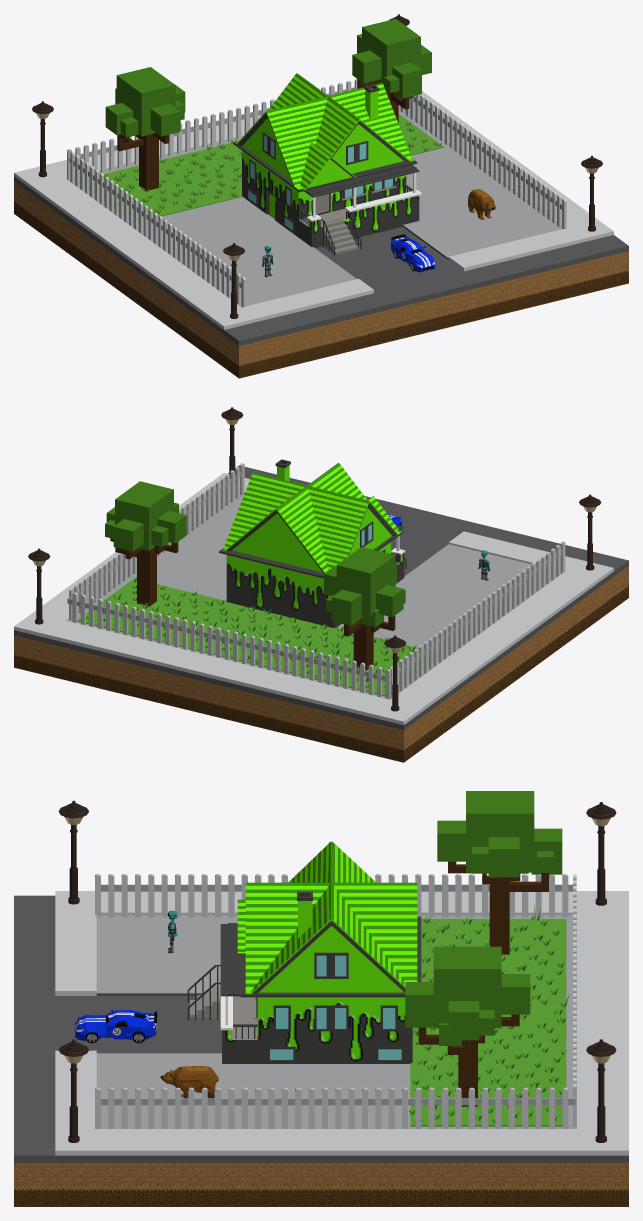
The picture shows the model from 3 angles, top to bottom: view 1: azimuth 30°, elevation 25°; view 2: azimuth 150°, elevation 25°; view 3: azimuth 270°, elevation 25°; orthographic projection. The views are drawn at different scales.
Parts seen in each view (by area): view 1: Cube.004, Cube.754, VEHICLES_RACING_CAR, ANIMAL_OSO; view 2: Cube.004, Cube.754; view 3: Cube.004, Cube.754, VEHICLES_RACING_CAR, ANIMAL_OSO.
Boxes of the visible parts, x1,y1,x2,y2 form: Cube.004: (14, 14, 628, 378); Cube.754: (233, 73, 421, 255); VEHICLES_RACING_CAR: (390, 234, 435, 272); ANIMAL_OSO: (468, 189, 495, 219); Cube.004: (14, 407, 628, 762); Cube.754: (219, 459, 406, 628); Cube.004: (14, 791, 628, 1206); Cube.754: (187, 841, 421, 1063); VEHICLES_RACING_CAR: (74, 1009, 157, 1043); ANIMAL_OSO: (160, 1066, 218, 1098).
Bounding box in the file's own units: 4000 × 1700 × 4000.
Materials: 34 (4 with a texture image).
